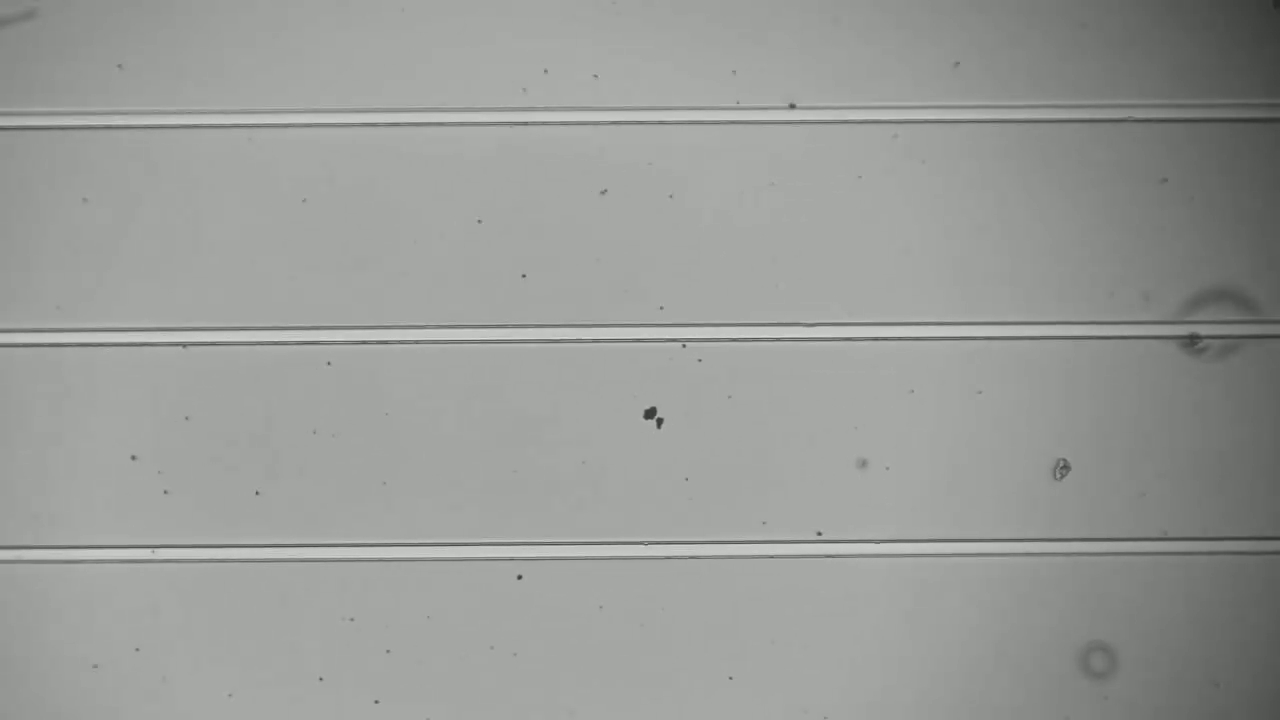stains_enbedded: (1178, 312, 1210, 355)
